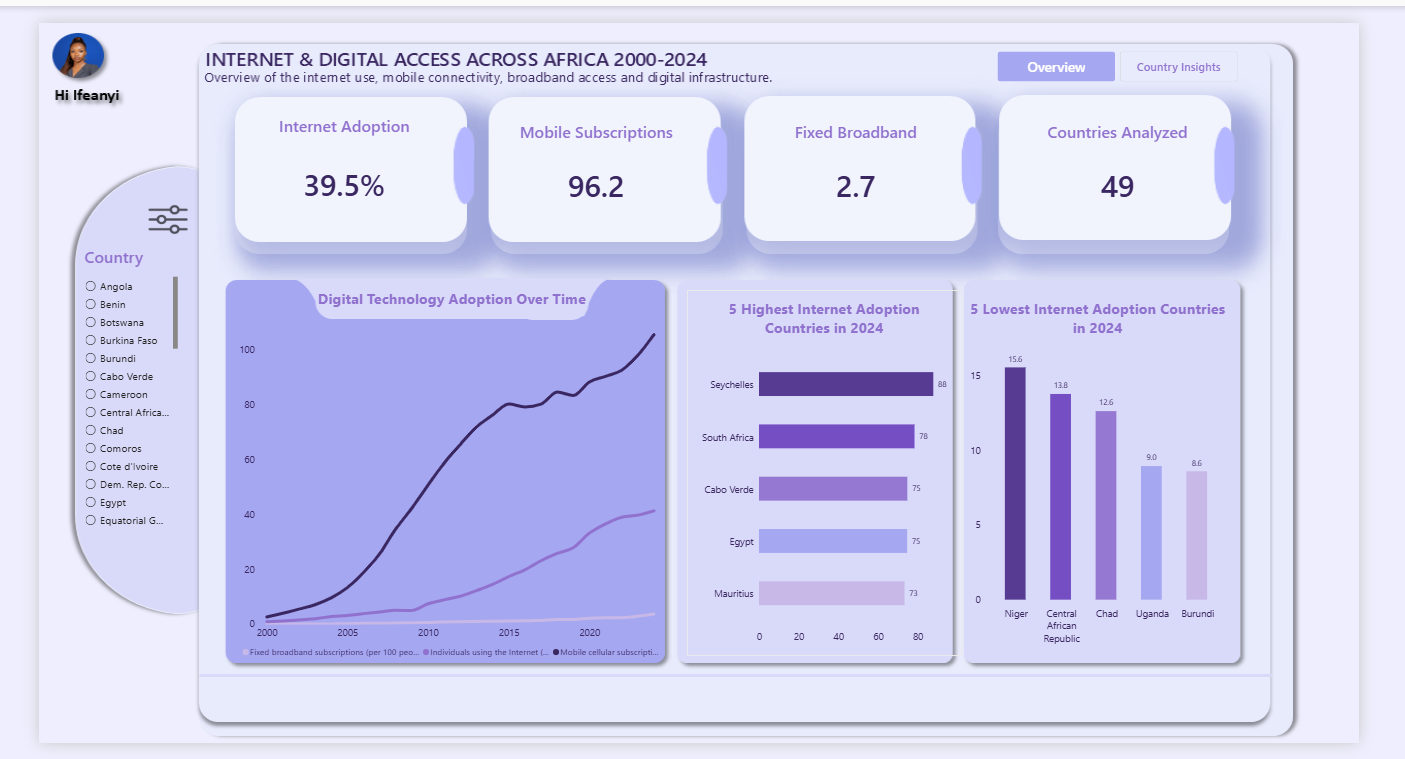

Layout of this report page (visuals, bound fields, positions):
{"tool":"powerbi","page":{"name":"Overview","canvas":[2200,1200],"ordinal":0},"visuals":[{"type":"pageNavigator","box":[1597.5,47.5,400,50],"z":0},{"type":"cardVisual","title":"Internet Adoption","fields":{"Data":["WDI_Technology_Africa_Clean (2).Internet Adoptionn"]},"box":[316.7,152.6,382.5,180],"z":1000,"group":"g1"},{"type":"listSlicer","title":"Country","fields":{"Values":["DimCountry.CountryName"]},"box":[61,358.5,187.8,502.4],"z":1000},{"type":"image","box":[182.5,297.5,65,60],"z":2000},{"type":"group","id":"g1","title":"Group 1","box":[316.7,152.6,1680,180],"z":3000},{"type":"cardVisual","title":"Mobile Subscriptions","fields":{"Data":["WDI_Technology_Africa_Clean (2).Mobile Subscriptionss"]},"box":[731.7,161.4,392.5,162.5],"z":3000,"group":"g1"},{"type":"cardVisual","title":"Countries Analyzed","fields":{"Data":["WDI_Technology_Africa_Clean (2).Countries Analyzedd"]},"box":[1596.7,161.4,400,162.5],"z":4000,"group":"g1"},{"type":"lineChart","title":"Digital Technology Adoption Over Time","fields":{"Category":["Question 1 WDI.Year"],"Series":["Question 1 WDI.IndicatorName"],"Y":["Sum(Question 1 WDI.Average_Value)"]},"box":[317.1,426.8,741.5,651.2],"z":4000},{"type":"clusteredBarChart","title":"5 Highest Internet Adoption Countries in 2024","fields":{"Category":["Question 2a WDI.CountryName"],"Y":["Sum(Question 2a WDI.Internet_Adoption_2024)"]},"box":[1080.6,444.4,457.5,610],"z":5000},{"type":"cardVisual","title":"Fixed Broadband","fields":{"Data":["WDI_Technology_Africa_Clean (2).Fixed Broadbandd"]},"box":[1156.7,161.4,407.5,162.5],"z":6000,"group":"g1"},{"type":"clusteredColumnChart","title":"5 Lowest Internet Adoption Countries in 2024","fields":{"Category":["Question 2b WDI.CountryName"],"Y":["Sum(Question 2b WDI.Internet_Adoption_2024)"]},"box":[1533.3,444.4,463.9,611.1],"z":6000}]}

Visuals, with their boxes in screenshot pixels (x1, y1, x2, y2), scaled from the page's 2200x1200 canvas onto the 1405x759 screenshot:
pageNavigator: [1020,30,1276,62]
"Internet Adoption" cardVisual: [202,97,447,210]
"Country" listSlicer: [39,227,159,545]
image: [117,188,158,226]
"Group 1" group: [202,97,1275,210]
"Mobile Subscriptions" cardVisual: [467,102,718,205]
"Countries Analyzed" cardVisual: [1020,102,1275,205]
"Digital Technology Adoption Over Time" lineChart: [203,270,676,682]
"5 Highest Internet Adoption Countries in 2024" clusteredBarChart: [690,281,982,667]
"Fixed Broadband" cardVisual: [739,102,999,205]
"5 Lowest Internet Adoption Countries in 2024" clusteredColumnChart: [979,281,1275,668]
